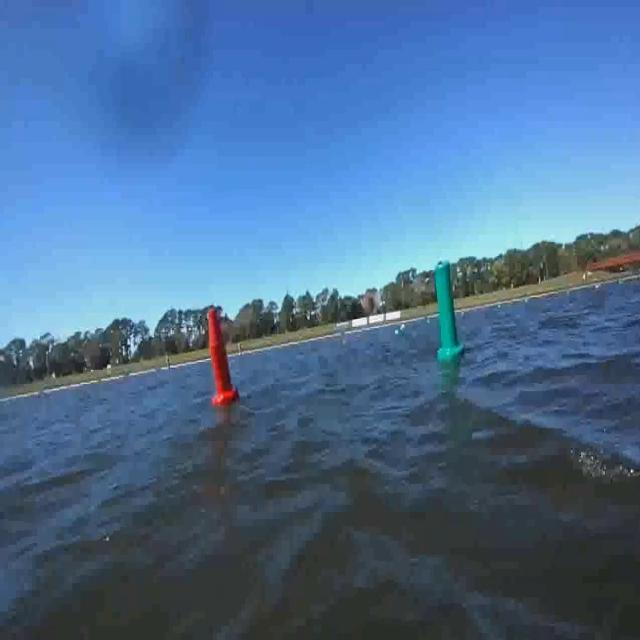green-column-buoy: (435, 259, 466, 361)
red-column-buoy: (206, 304, 239, 406)
